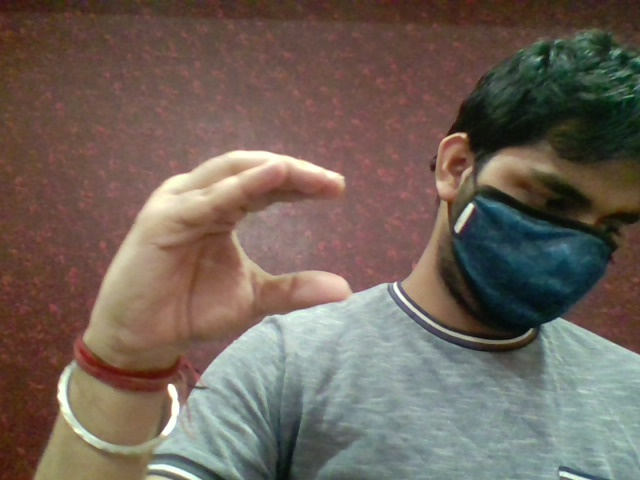c: (97, 139, 357, 312)
